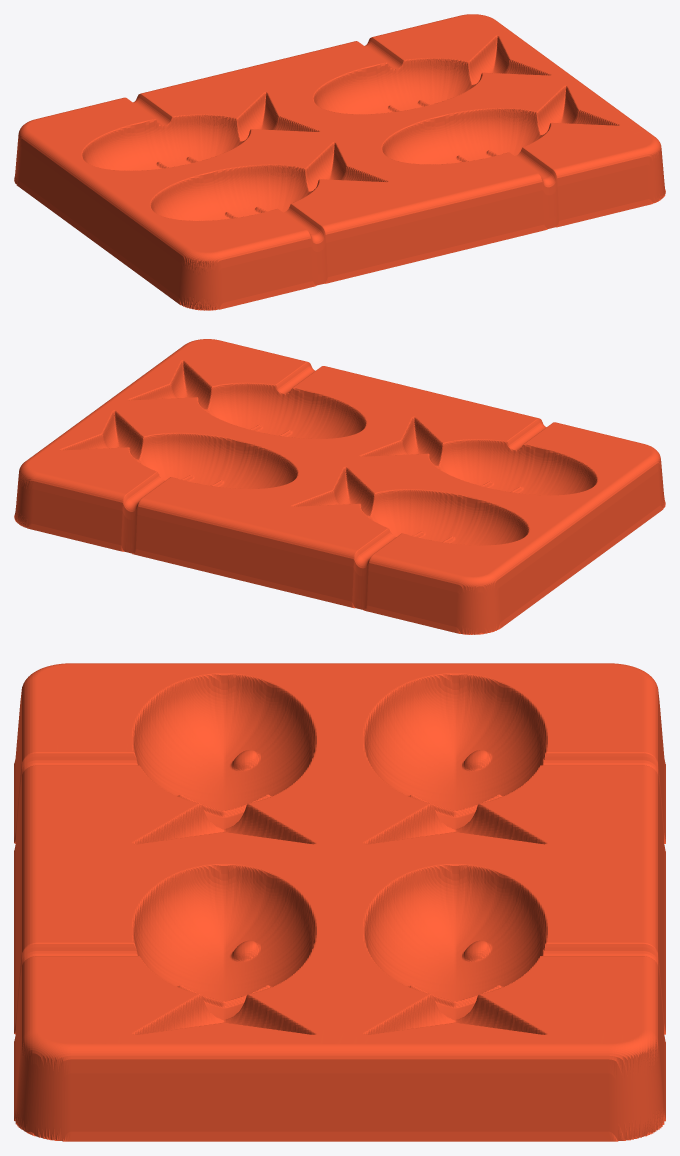
Rendered from mold.glb.
3 views of the same model, one above another, from view 1: azimuth 30°, elevation 25°; view 2: azimuth 150°, elevation 25°; view 3: azimuth 270°, elevation 25° (orthographic). The views are drawn at different scales.
Parts seen in each view (by area): view 1: geometry_0; view 2: geometry_0; view 3: geometry_0.
Part boxes in pixels (bbox=[...]): geometry_0: bbox=[14, 14, 665, 310]; geometry_0: bbox=[14, 339, 665, 634]; geometry_0: bbox=[14, 663, 665, 1141].
Bounding box in the file's own units: 0.1497 × 0.0155 × 0.1036.
